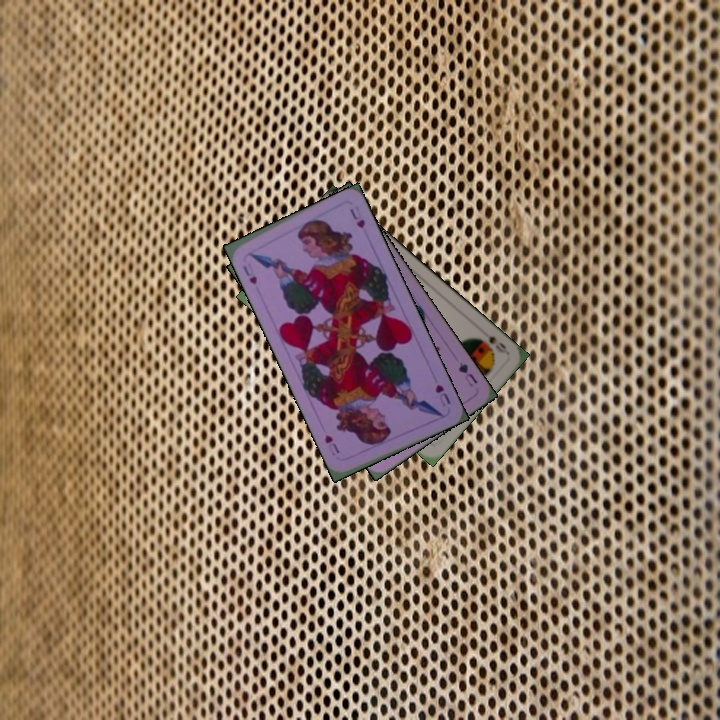GU: (454, 358, 480, 389)
HU: (239, 251, 260, 287), (431, 380, 453, 409)
SO: (484, 332, 510, 356)
